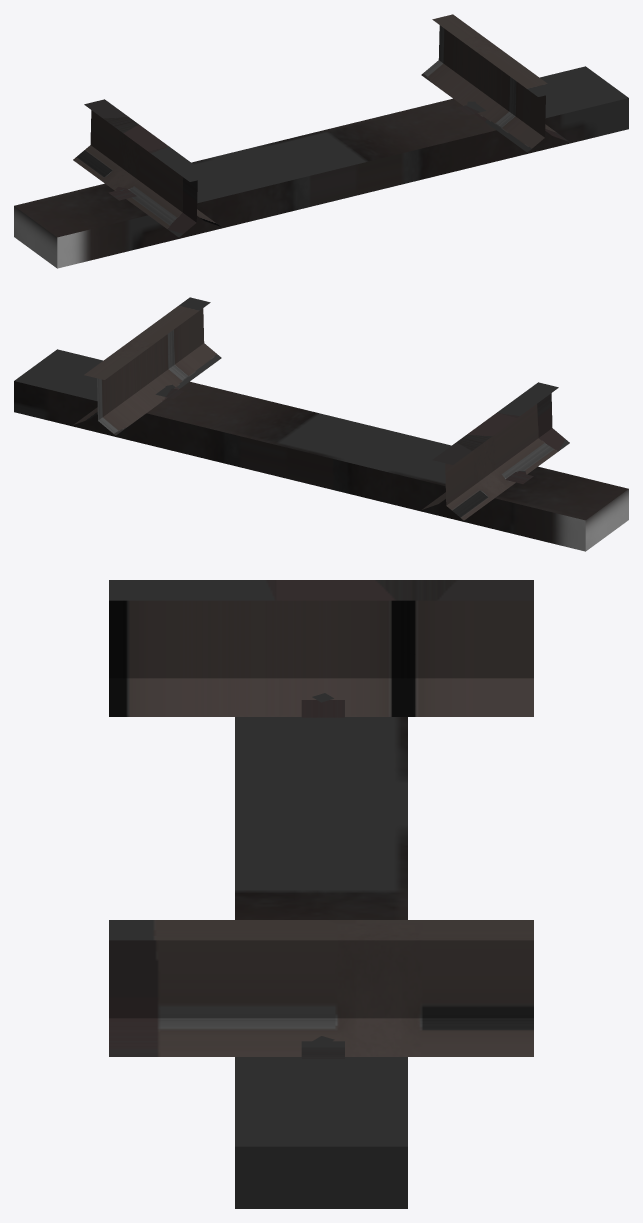
The model's file is rail1067_brown.obj.
3 renders of one model, top to bottom at view 1: azimuth 30°, elevation 25°; view 2: azimuth 150°, elevation 25°; view 3: azimuth 270°, elevation 25°, orthographic. The views are drawn at different scales.
Parts seen in each view (by area): view 1: obj1; view 2: obj1; view 3: obj1.
Boxes of the visible parts, x1,y1,x2,y2 form: obj1: (14,14,628,268); obj1: (14,297,628,551); obj1: (109,580,533,1208).
Size of the model in its own units: 1.86 by 0.2643 by 0.6.
Materials: 1 (1 with a texture image).
